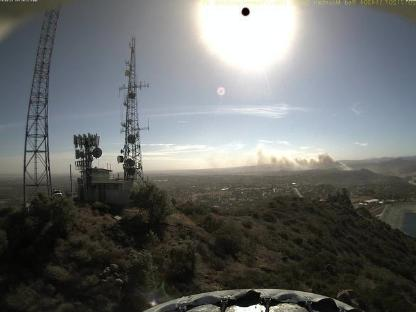smoke: (251, 147, 353, 178)
